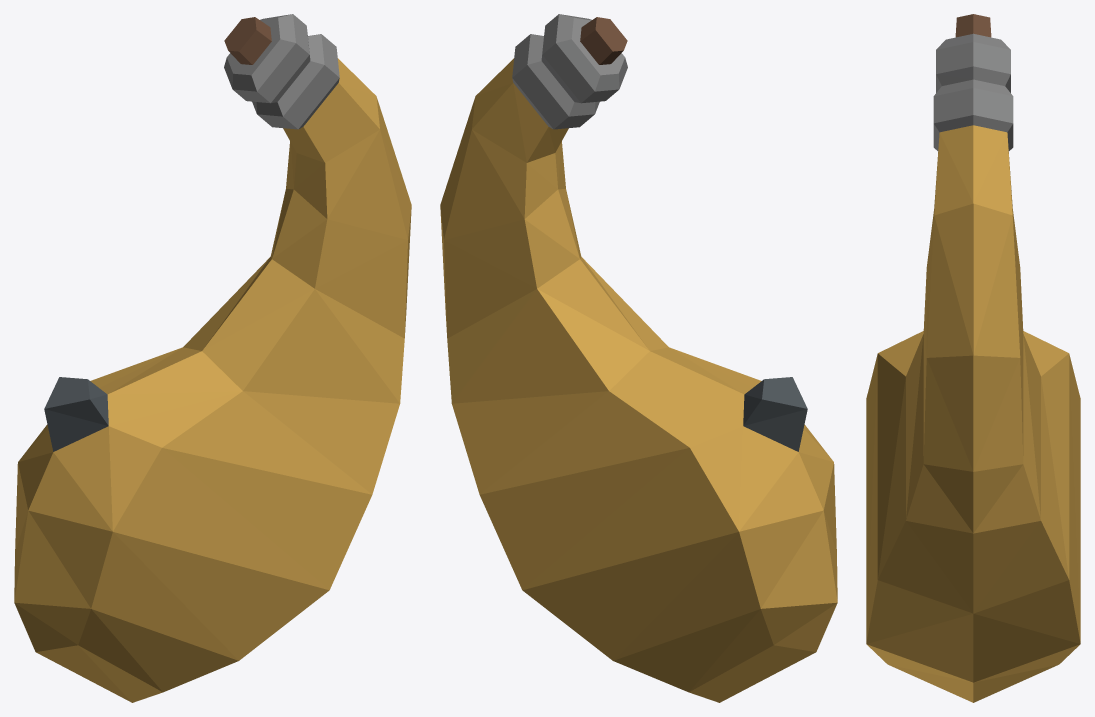
Rendered from SM_Item_Waterskin_01.fbx.
The picture shows the model from 3 angles, left to right: view 1: azimuth 30°, elevation 25°; view 2: azimuth 150°, elevation 25°; view 3: azimuth 270°, elevation 25°; orthographic projection. The views are drawn at different scales.
Parts seen in each view (by area): view 1: SM_Item_Waterskin_01; view 2: SM_Item_Waterskin_01; view 3: SM_Item_Waterskin_01.
Boxes of the visible parts, <box> form: SM_Item_Waterskin_01: <box>14,14,411,702</box>; SM_Item_Waterskin_01: <box>440,14,837,702</box>; SM_Item_Waterskin_01: <box>866,14,1080,702</box>.
Size of the model in its own units: 0.00137 by 0.00217 by 0.000569.
1 material, 1 textured.
